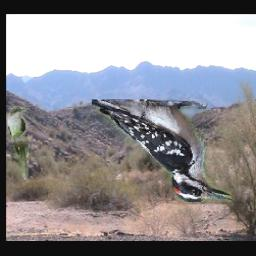Cuckoo: (8, 107, 30, 181)
Woodpecker: (93, 99, 233, 202)
